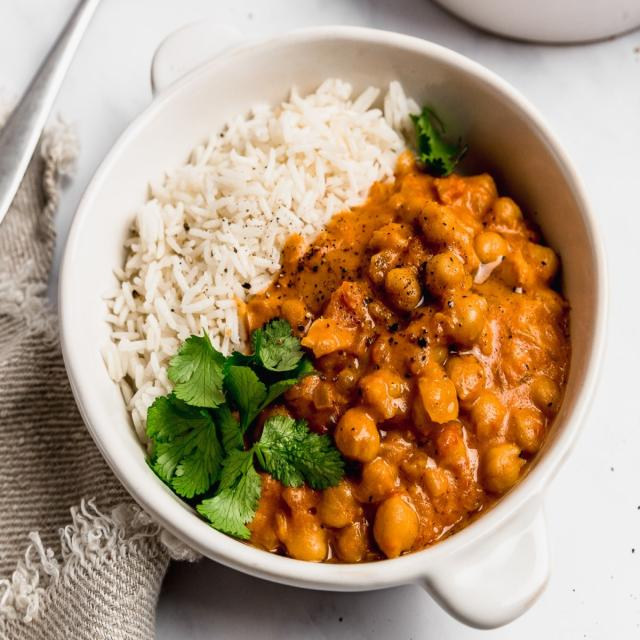arroz: (97, 75, 380, 352)
garbanzos: (272, 169, 552, 538)
